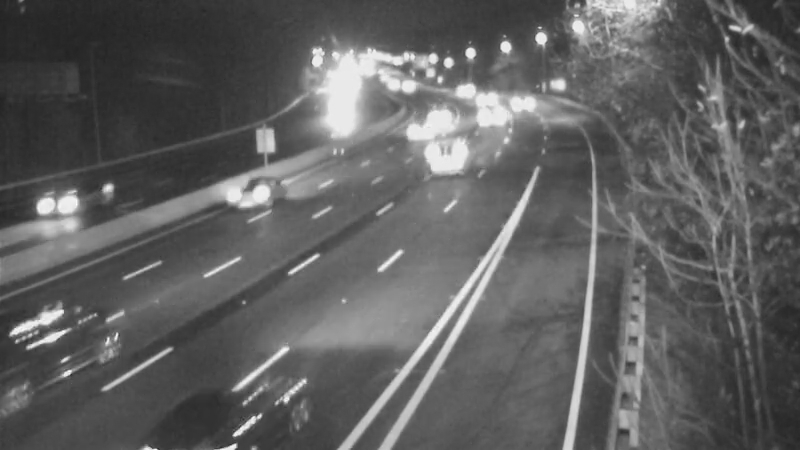vehicle: (8, 290, 118, 400), (167, 353, 277, 450), (408, 121, 488, 201), (213, 154, 293, 234), (19, 160, 99, 240), (434, 63, 484, 113), (486, 75, 536, 125), (462, 74, 512, 124), (417, 89, 467, 139), (469, 91, 519, 141), (391, 107, 441, 157)
